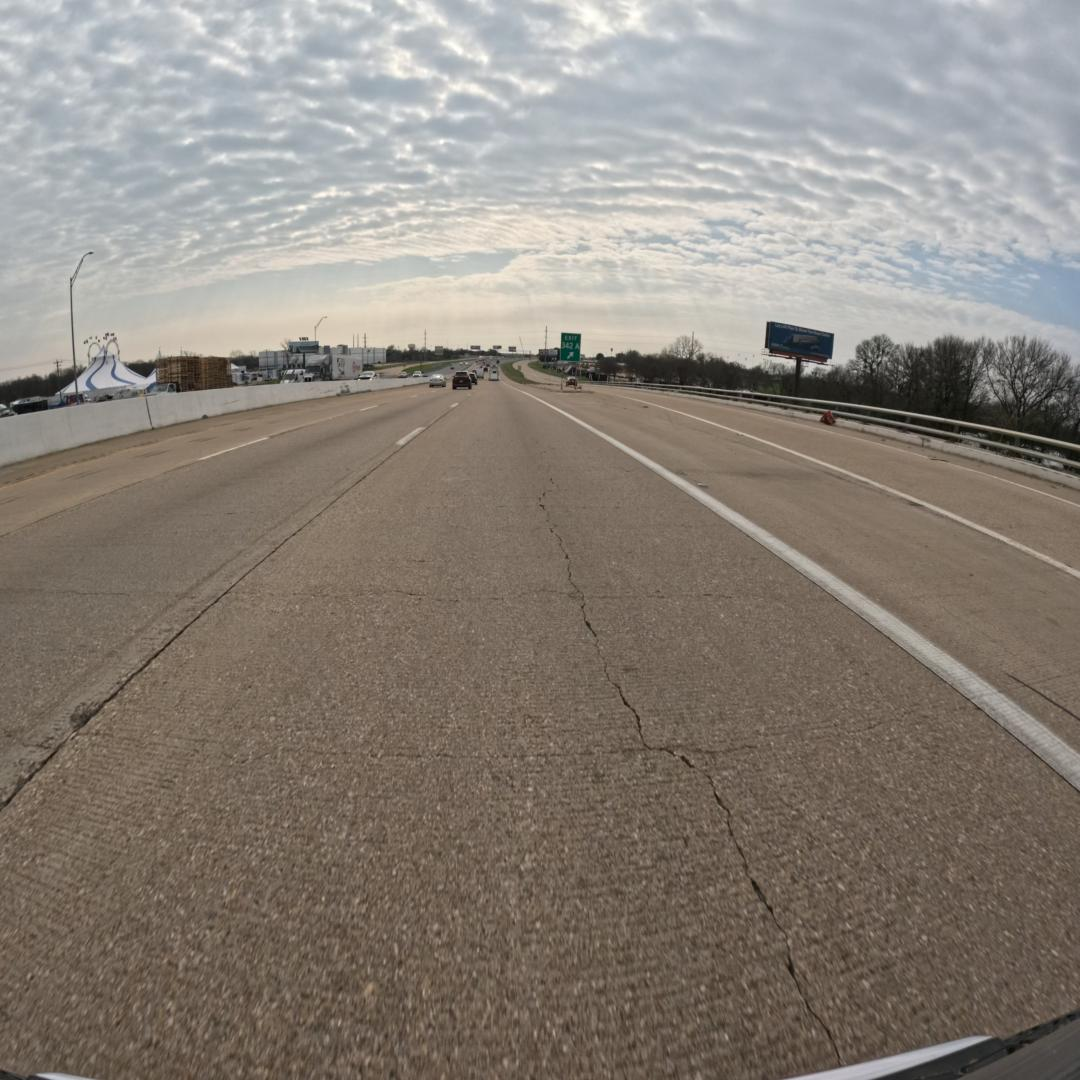lane0: (0, 384, 1080, 1077)
lane1: (0, 393, 455, 809)
